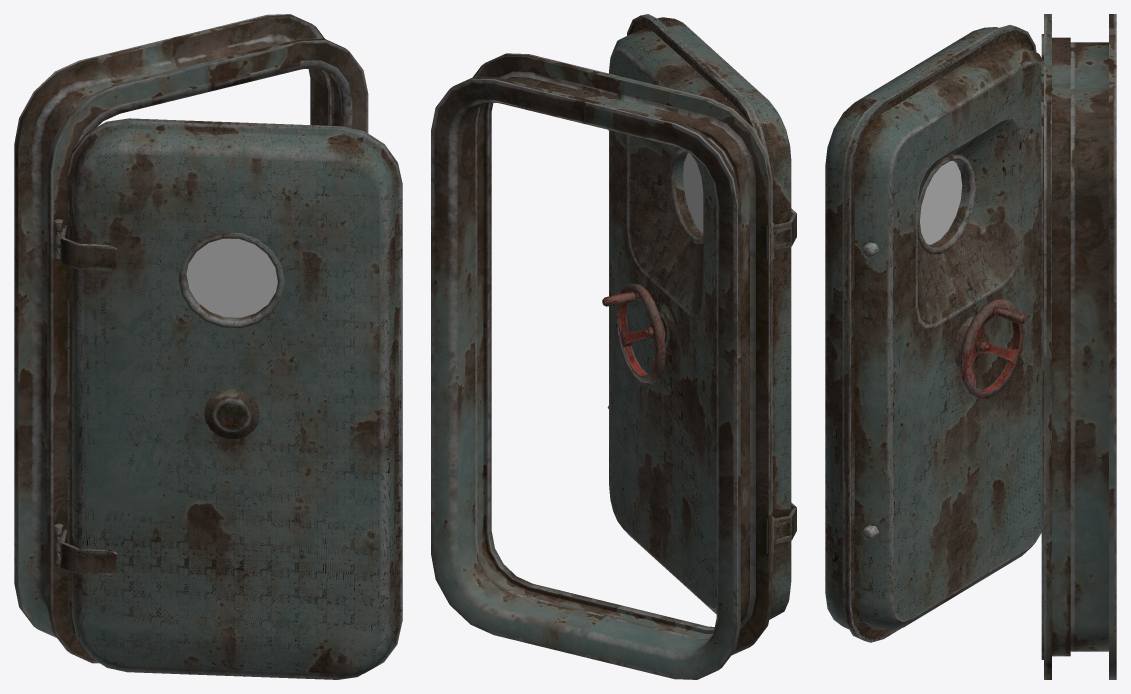
File: Bunker Door.fbx
3 views of the same model, side by side, from view 1: azimuth 30°, elevation 25°; view 2: azimuth 150°, elevation 25°; view 3: azimuth 270°, elevation 25° (orthographic). The views are drawn at different scales.
Visible parts, largest first — view 1: group_2, instance_0, group_1, group_0.003, group_0.008, group_0.010; view 2: instance_0, group_2, group_0.007, group_1.001, group_0.008, group_0.010, group_0.001; view 3: group_2, instance_0, group_0.007, group_1.001.
Part boxes in pixels (x1,y1,x2,y2): group_2: [67, 118, 402, 679]; instance_0: [14, 14, 368, 663]; group_1: [186, 238, 277, 317]; group_0.003: [204, 389, 259, 439]; group_0.008: [54, 523, 116, 575]; group_0.010: [54, 219, 116, 270]; instance_0: [431, 53, 772, 679]; group_2: [609, 14, 791, 619]; group_0.007: [602, 283, 665, 383]; group_1.001: [683, 152, 703, 233]; group_0.008: [766, 502, 796, 553]; group_0.010: [766, 208, 796, 259]; group_0.001: [656, 302, 676, 354]; group_2: [825, 25, 1041, 642]; instance_0: [1041, 14, 1116, 679]; group_0.007: [959, 299, 1027, 398]; group_1.001: [920, 161, 962, 244].
Bounding box in the file's own units: 134 × 228 × 107.
